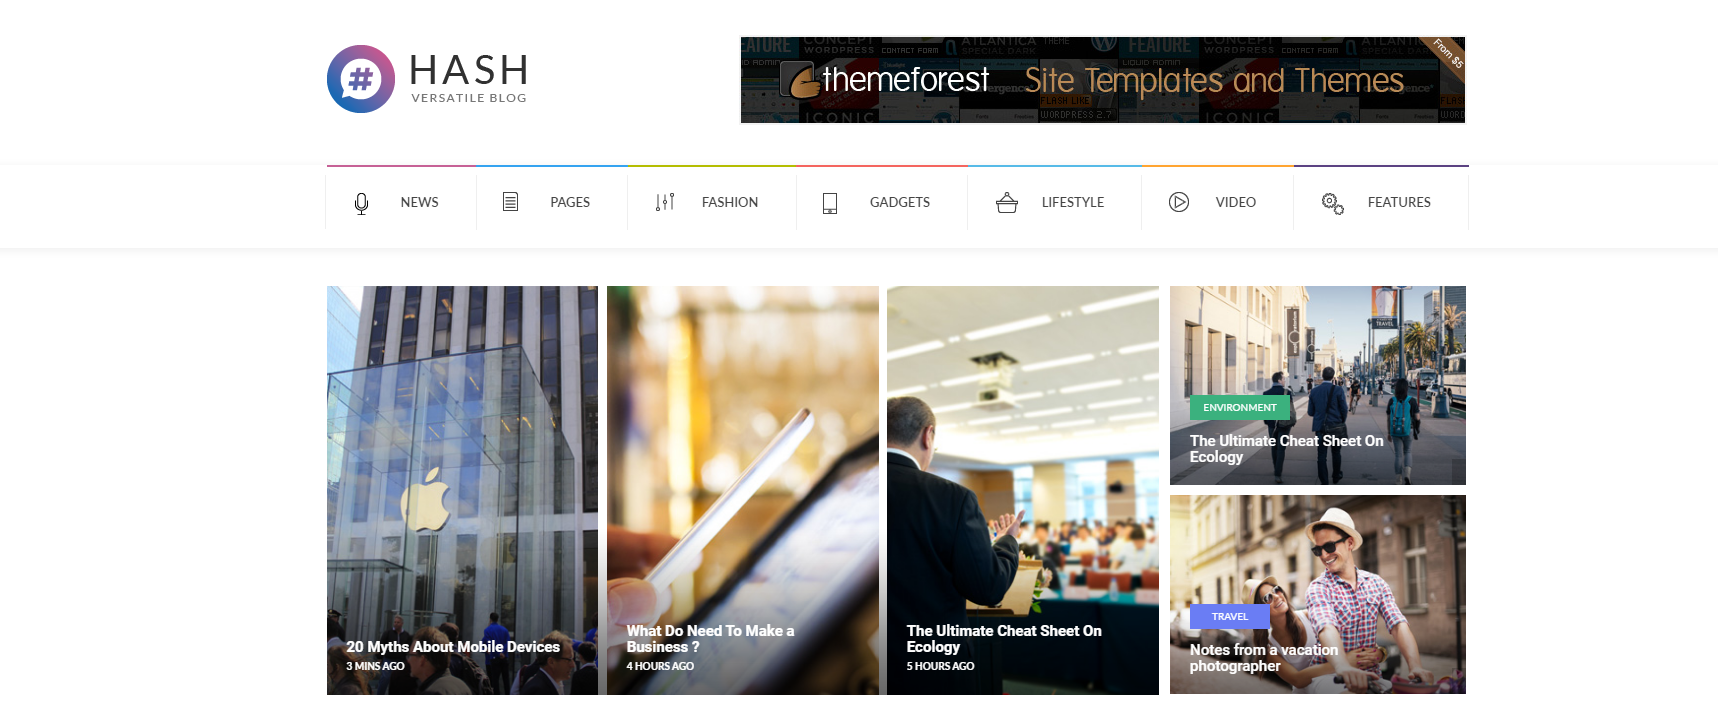menu: (31, 10, 1684, 267)
